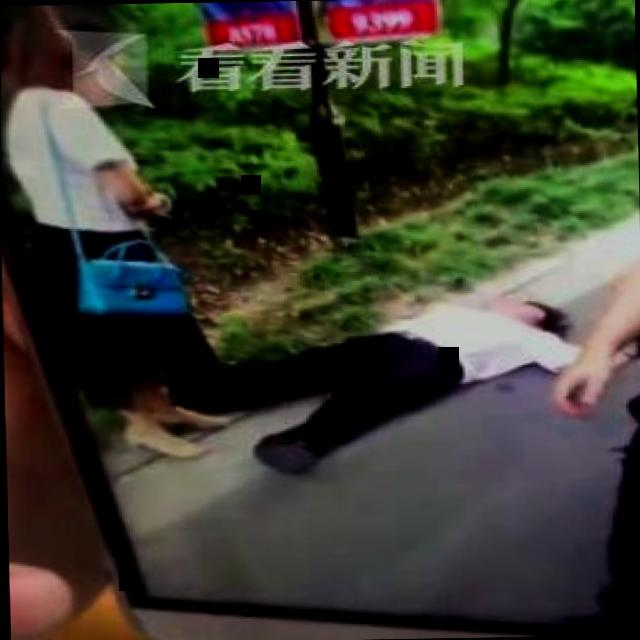Fall-Detected: (123, 289, 604, 473)
